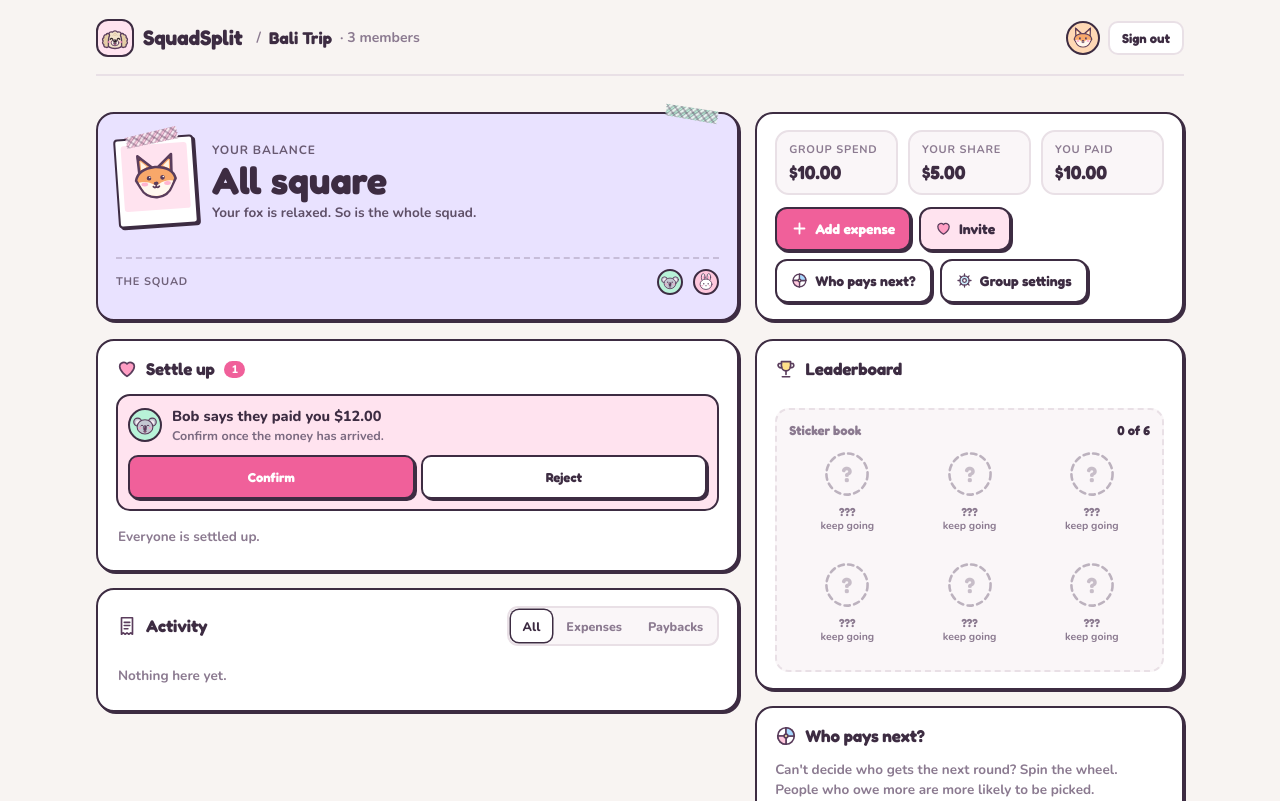
Squad Reacts on the group home › plays the heart hop and cheer wave when you confirm a payback, and lets you close it
The width and height of the screenshot is (1280, 801).
Later steps or results of the test are not shown.
Click the button "Confirm" at [271, 477], box x1=128 y1=455 x2=415 y2=499
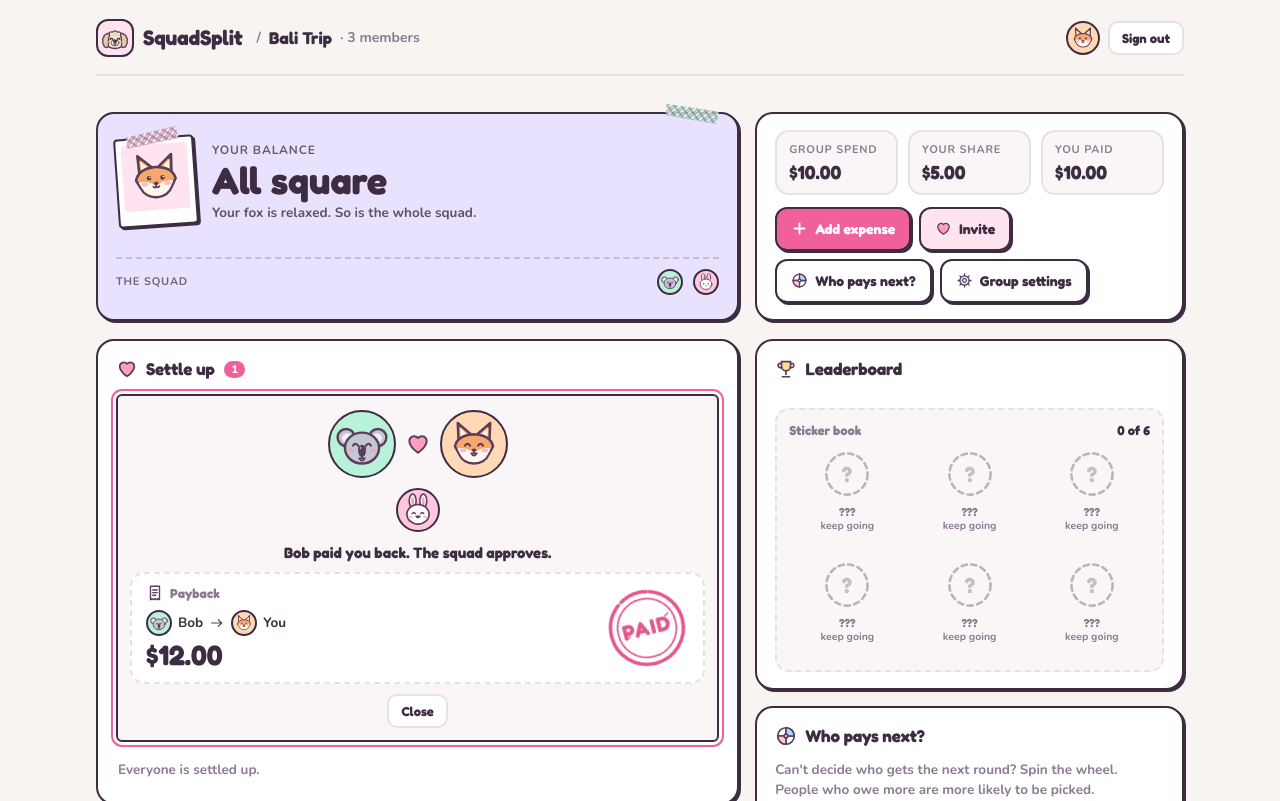
Expected: the text "Bob says they paid you $12.00" is gone
Expected: the element named "Payback confirmed" shows "Bob paid you back. The squad approves.", x1=116 y1=394 x2=719 y2=742
Expected: the element with class "heart-hop" is shown, x1=405 y1=431 x2=431 y2=457
